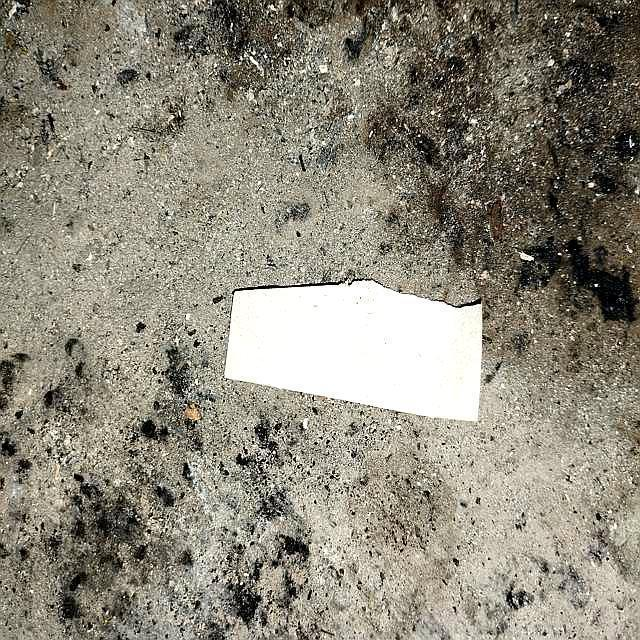Biodegradable: (221, 267, 485, 427)
